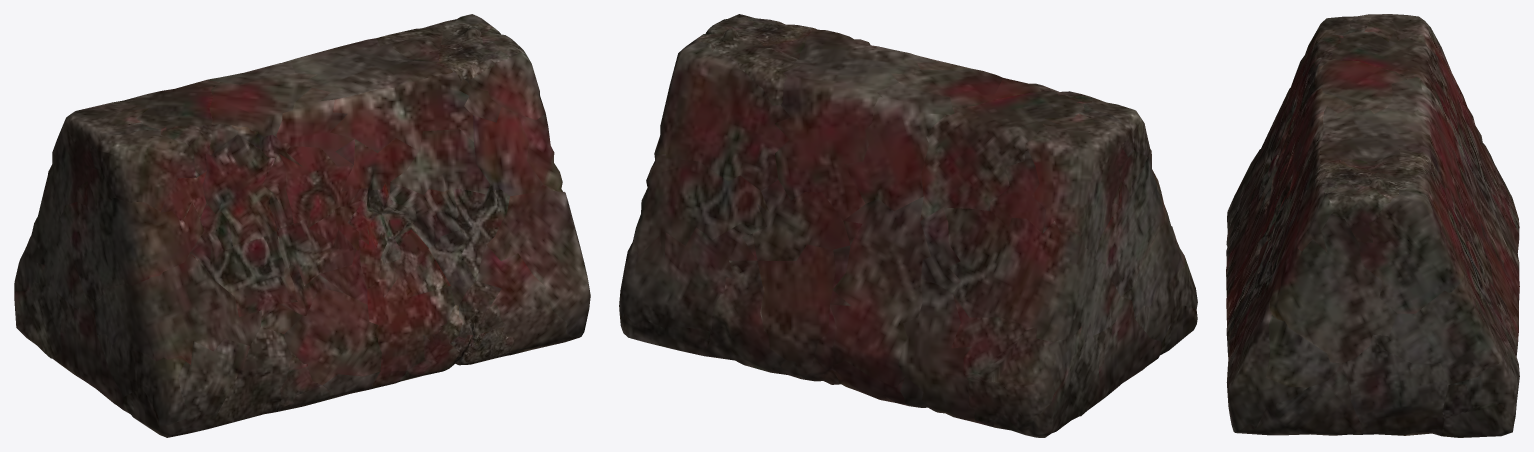
Rendered from blockset_b1.glb.
The picture shows the model from 3 angles, left to right: view 1: azimuth 30°, elevation 25°; view 2: azimuth 150°, elevation 25°; view 3: azimuth 270°, elevation 25°; orthographic projection. The views are drawn at different scales.
Size of the model in its own units: 112 by 66.46 by 71.66.
1 material, 1 textured.
